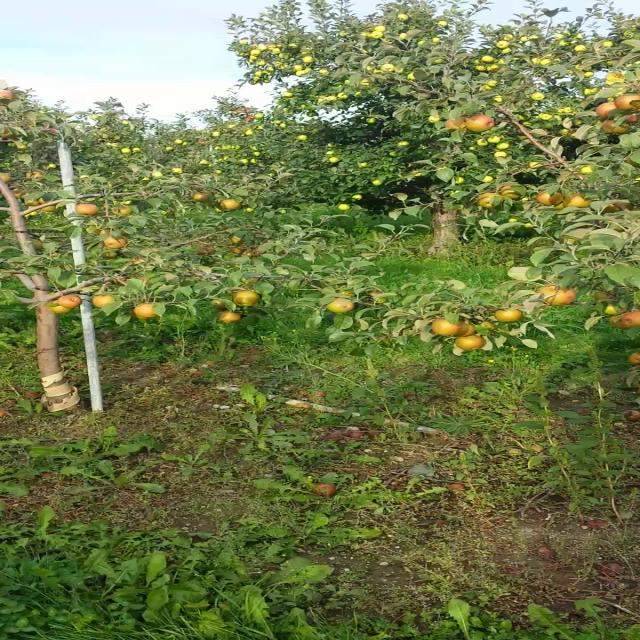apple: (537, 284, 573, 306), (454, 333, 484, 351), (475, 192, 504, 210), (442, 116, 470, 134), (467, 114, 497, 130), (600, 118, 630, 134), (494, 308, 524, 324), (430, 319, 460, 335), (536, 189, 564, 206), (326, 296, 354, 312), (613, 94, 639, 110), (500, 184, 526, 200), (48, 299, 74, 315), (592, 100, 614, 118), (234, 290, 260, 304), (55, 294, 81, 308), (134, 301, 156, 317), (607, 314, 632, 328), (93, 292, 114, 308), (602, 302, 626, 316), (452, 322, 476, 336), (564, 193, 591, 205), (620, 310, 639, 327), (74, 202, 98, 215), (220, 309, 242, 323), (25, 168, 47, 180), (105, 237, 127, 249), (218, 198, 239, 210), (0, 90, 16, 104), (191, 192, 213, 202), (111, 205, 133, 215), (210, 297, 226, 309), (132, 257, 152, 266), (240, 276, 260, 284), (0, 127, 13, 139), (628, 351, 639, 365), (197, 247, 216, 255), (604, 203, 622, 211), (594, 291, 612, 299), (40, 204, 57, 212), (228, 247, 245, 255), (626, 113, 639, 123), (12, 188, 25, 198), (23, 199, 41, 206), (232, 235, 244, 245), (478, 321, 494, 328), (0, 173, 11, 183), (552, 201, 564, 209), (100, 228, 111, 236), (38, 197, 47, 205)
